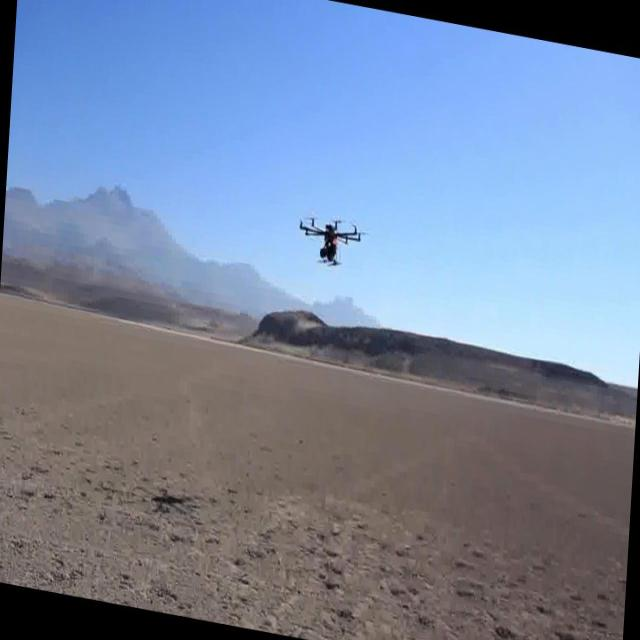drone: (294, 203, 368, 279)
